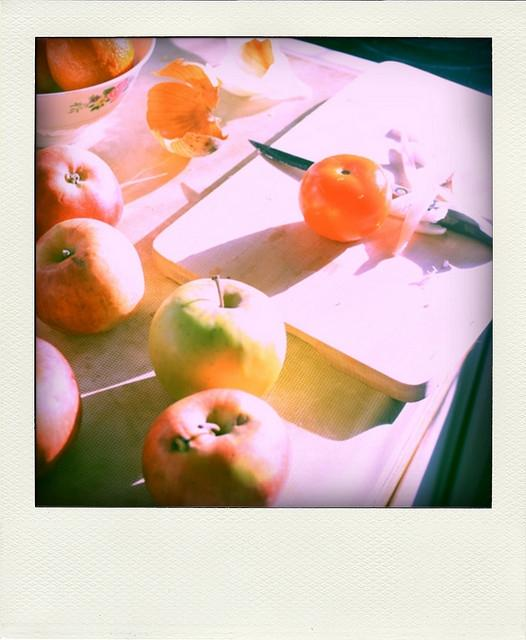apple: (142, 388, 294, 508), (151, 276, 288, 401), (36, 218, 145, 336), (35, 145, 124, 244), (35, 336, 83, 491)
orange: (47, 37, 134, 92), (35, 39, 55, 94)
tomato: (298, 154, 393, 242)
